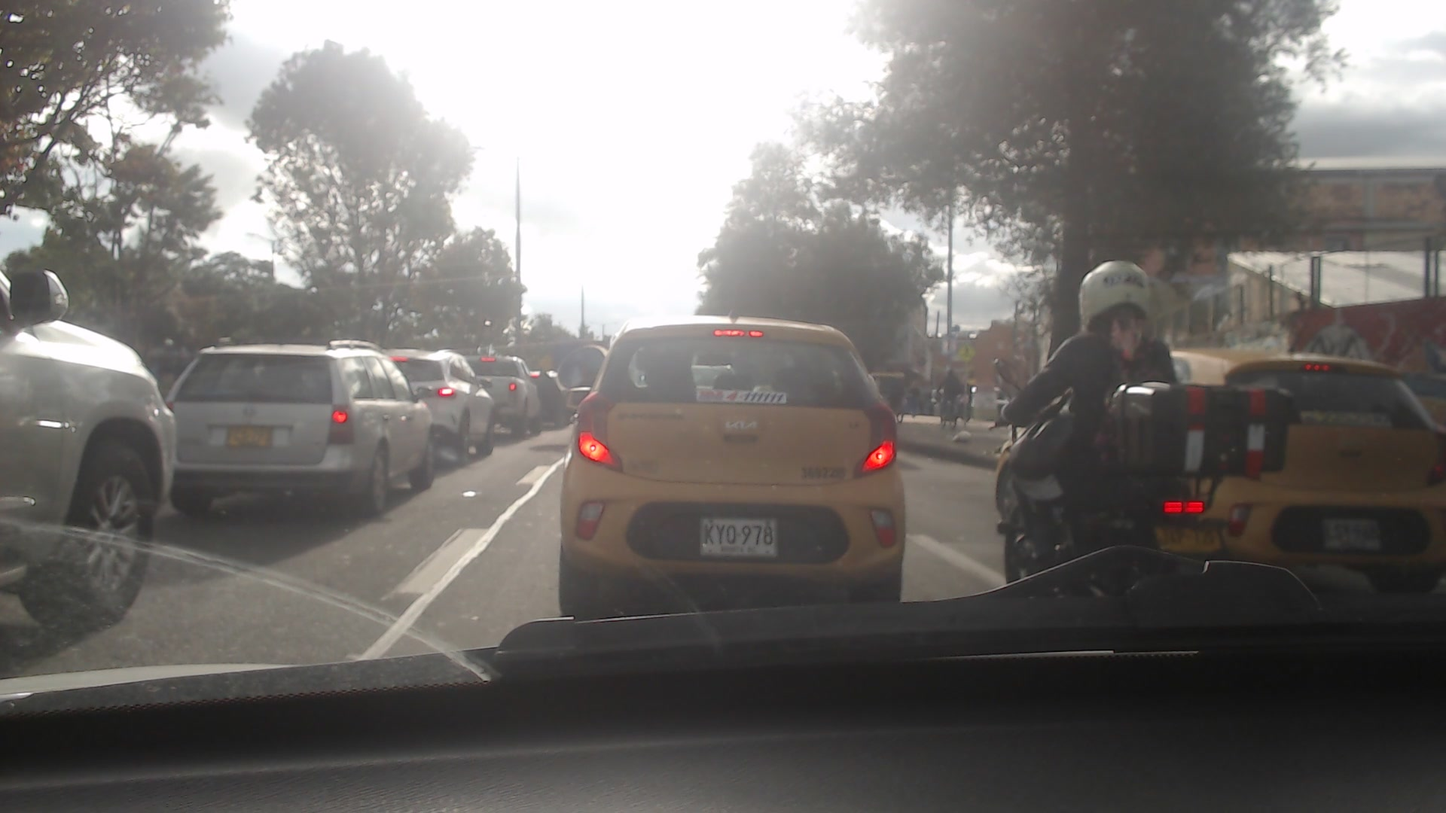car: (553, 321, 904, 611), (1159, 350, 1444, 586), (166, 343, 437, 508), (376, 343, 491, 453), (464, 356, 542, 440)
motorcycle: (976, 426, 1225, 613)
person: (1038, 246, 1171, 538)
